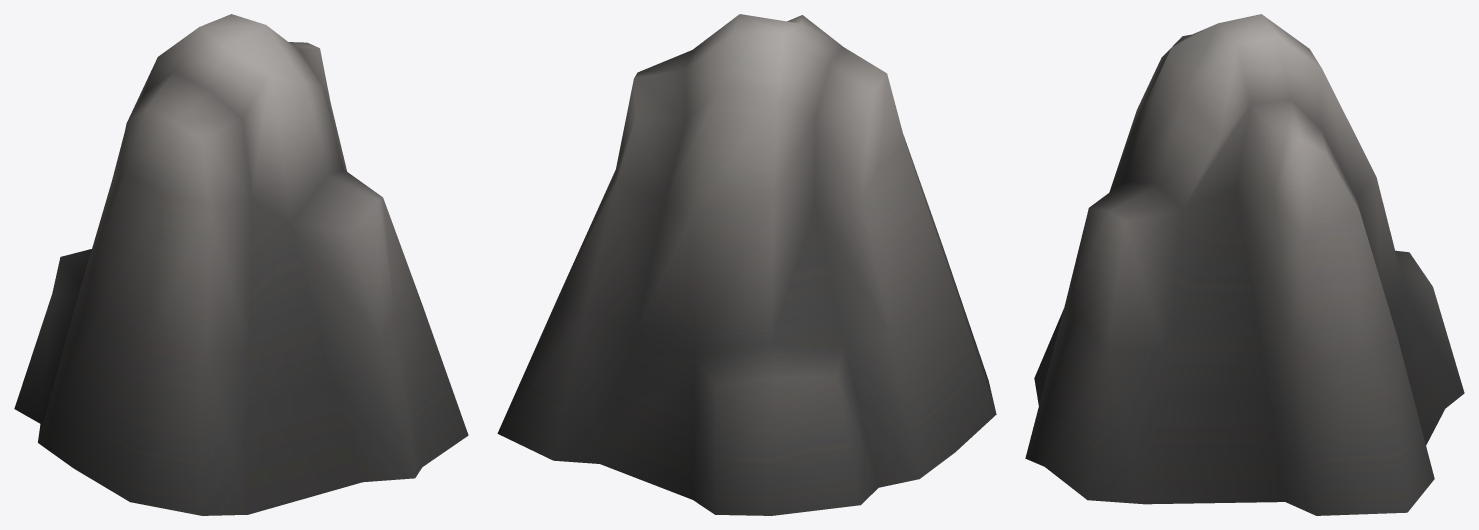
File: m_Stone01_A.fbx
The picture shows the model from 3 angles, left to right: view 1: azimuth 30°, elevation 25°; view 2: azimuth 150°, elevation 25°; view 3: azimuth 270°, elevation 25°; orthographic projection. The views are drawn at different scales.
Visible parts, largest first — view 1: m_Stone01_A; view 2: m_Stone01_A; view 3: m_Stone01_A.
Part boxes in pixels (x1=…): m_Stone01_A: x1=14, y1=14, x2=468, y2=515; m_Stone01_A: x1=497, y1=14, x2=996, y2=515; m_Stone01_A: x1=1025, y1=14, x2=1464, y2=515.
Size of the model in its own units: 490 by 504 by 507.
